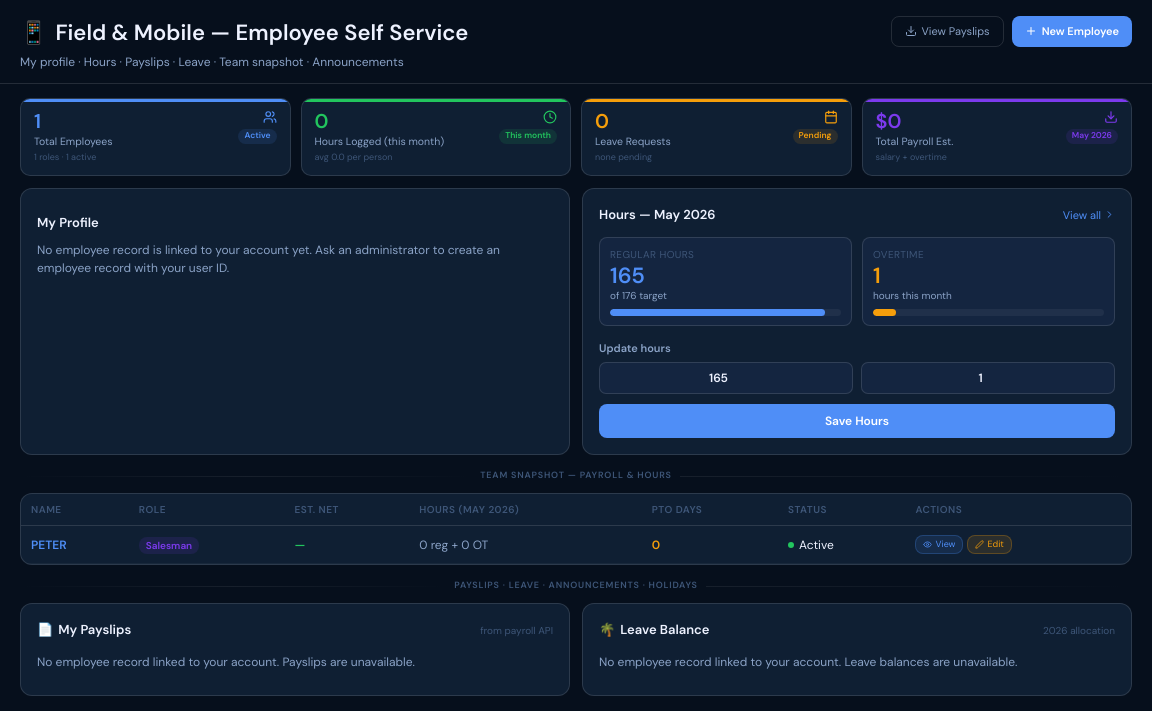
EmployeePortal pay summary › does not load pay profiles or show the pay button for a manager
Step 1. Click the button "Edit" → (990, 545), box left=967, top=535, right=1012, bottom=554
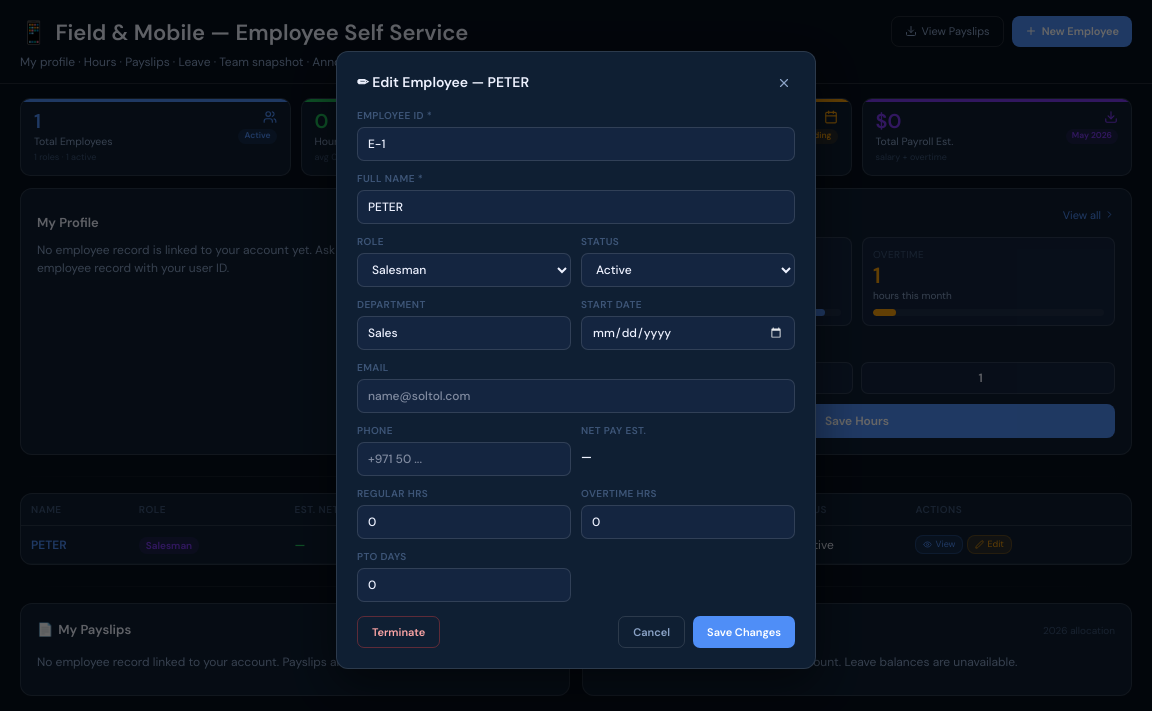
Now the label "Net Pay Est. —" is shown, box left=581, top=424, right=646, bottom=465
